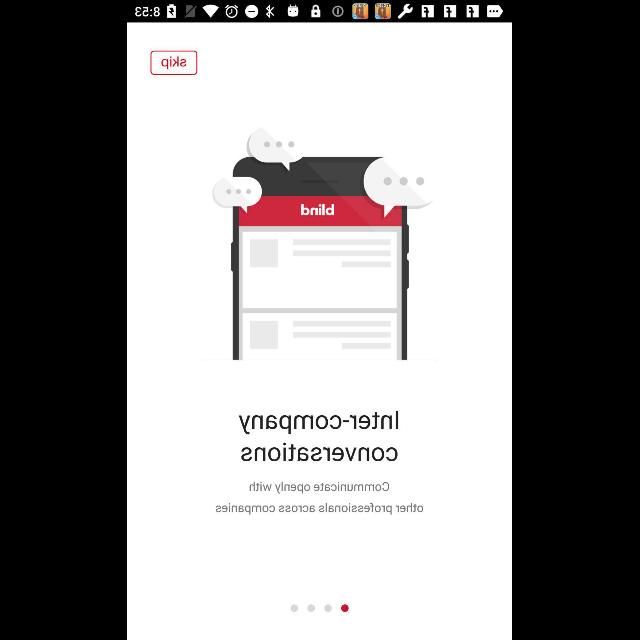image: (213, 126, 435, 360)
pageindicator: (290, 604, 350, 612)
text: (239, 411, 399, 462), (216, 481, 424, 515)
textbutton: (152, 50, 198, 76)
uppertaskbar: (128, 1, 512, 23)
